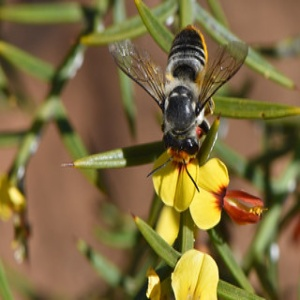bee: (110, 20, 254, 196)
